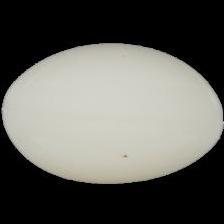17478-767: (0, 0, 224, 224)
